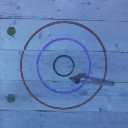Axe Tip: (70, 77, 79, 80)
